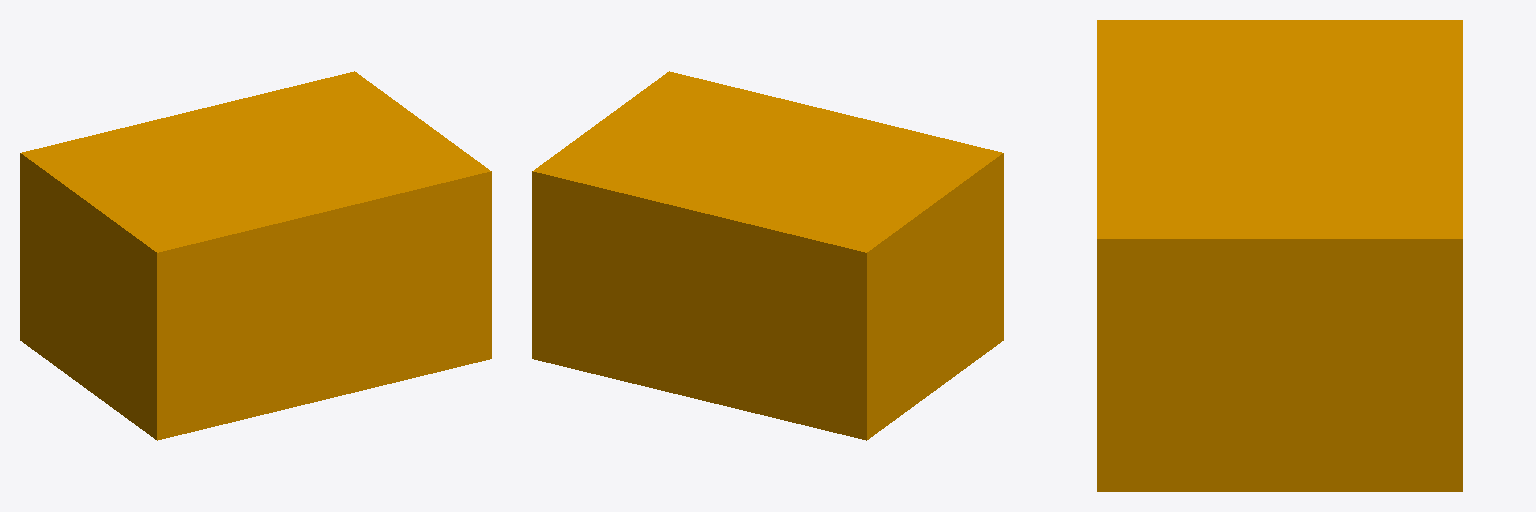
robot.urdf — object:
<?xml version="1.0"?>
<!-- Auto-generated by tools/gen_primitive_objects.py. kind=box dims=(0.094464, 0.066829, 0.05069) -->
<robot name="object">
  <link name="object">
    <visual>
      <origin xyz="0 0 0"/>
      <geometry>
        <box size="0.094464 0.066829 0.050690"/>
      </geometry>
    </visual>
    <collision>
      <origin xyz="0 0 0"/>
      <geometry>
        <box size="0.094464 0.066829 0.050690"/>
      </geometry>
    </collision>
    <inertial>
      <mass value="0.064001"/>
      <inertia ixx="0.00003752" ixy="0.0" ixz="0.0" iyy="0.00006130" iyz="0.0" izz="0.00007141"/>
    </inertial>
  </link>
</robot>

--- Facts derived from the render (not from the file) ---
Views: 3 orthographic renders of the robot side by side, from view 1: azimuth 30°, elevation 25°; view 2: azimuth 150°, elevation 25°; view 3: azimuth 270°, elevation 25°.
Robot: object — 1 links, 0 joints (none); root link object; default pose: every joint at zero.
Visible links, largest first — view 1: object; view 2: object; view 3: object.
Link boxes in pixels (x1,y1,x2,y2): object: (20, 71, 491, 440); object: (532, 71, 1003, 440); object: (1097, 20, 1462, 491).
Size in the robot's own frame: 0.0945 by 0.0668 by 0.0507 metres.
Geometry: primitives only (box / cylinder / sphere), no mesh files.
